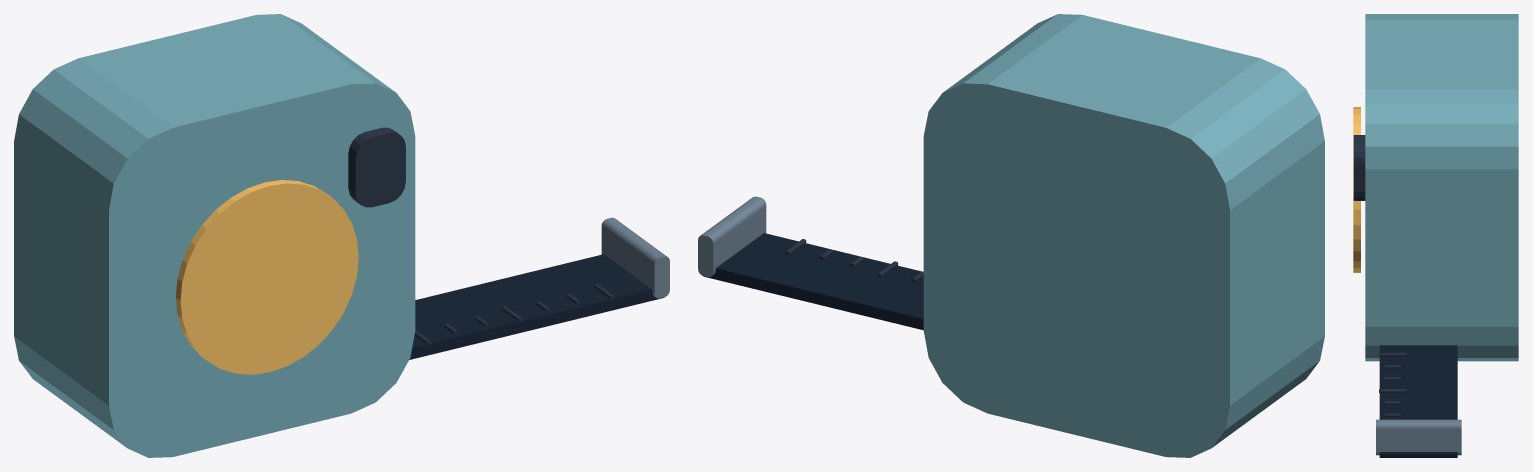
The model's file is taperule.glb.
3 renders of one model, left to right at view 1: azimuth 30°, elevation 25°; view 2: azimuth 150°, elevation 25°; view 3: azimuth 270°, elevation 25°, orthographic. The views are drawn at different scales.
Parts seen in each view (by area): view 1: housing, case inset, blade, lock button, end hook; view 2: housing, blade, end hook; view 3: housing, blade, end hook, case inset, lock button.
Part boxes in pixels (left/top/right/bottom): housing: left=14, top=14, right=415, bottom=457; case inset: left=175, top=180, right=358, bottom=374; blade: left=409, top=254, right=664, bottom=359; lock button: left=348, top=127, right=405, bottom=207; end hook: left=601, top=217, right=669, bottom=298; housing: left=923, top=14, right=1324, bottom=457; blade: left=703, top=233, right=923, bottom=330; end hook: left=698, top=196, right=766, bottom=277; housing: left=1365, top=14, right=1518, bottom=361; blade: left=1379, top=345, right=1457, bottom=457; end hook: left=1376, top=419, right=1461, bottom=455; case inset: left=1353, top=107, right=1360, bottom=272; lock button: left=1353, top=135, right=1365, bottom=200.
Bounding box in the file's own units: 2.04 × 1.13 × 0.637.
